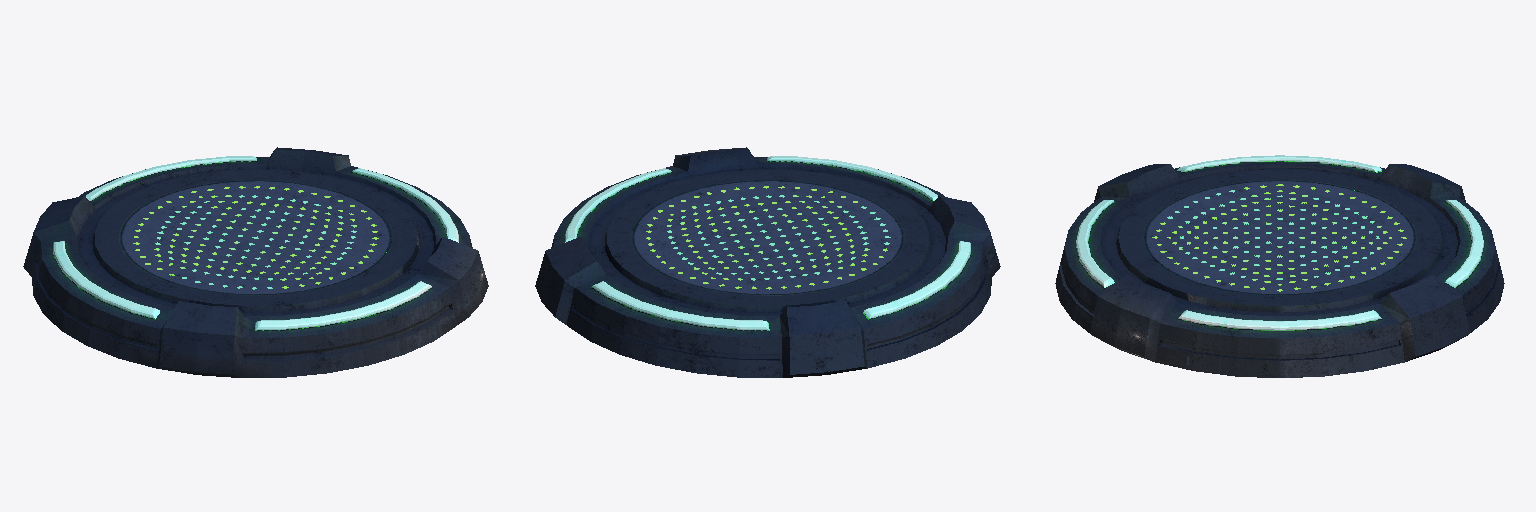
The picture shows the model from 3 angles: view 1: azimuth 30°, elevation 25°; view 2: azimuth 150°, elevation 25°; view 3: azimuth 270°, elevation 25°; orthographic projection.
Visible parts, largest first — view 1: baker_Mesh.005; view 2: baker_Mesh.005; view 3: baker_Mesh.005.
Part boxes in pixels (x1,y1,x2,y2): baker_Mesh.005: (23,147,488,377); baker_Mesh.005: (535,147,1000,377); baker_Mesh.005: (1055,155,1504,377).
Size of the model in its own units: 0.3051 by 0.0412 by 0.3051.
1 materials, 1 textured.